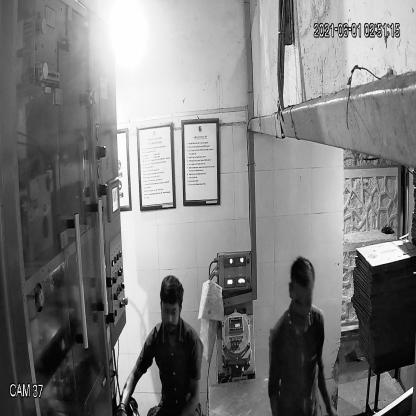no_goggles: (158, 298, 183, 324)
